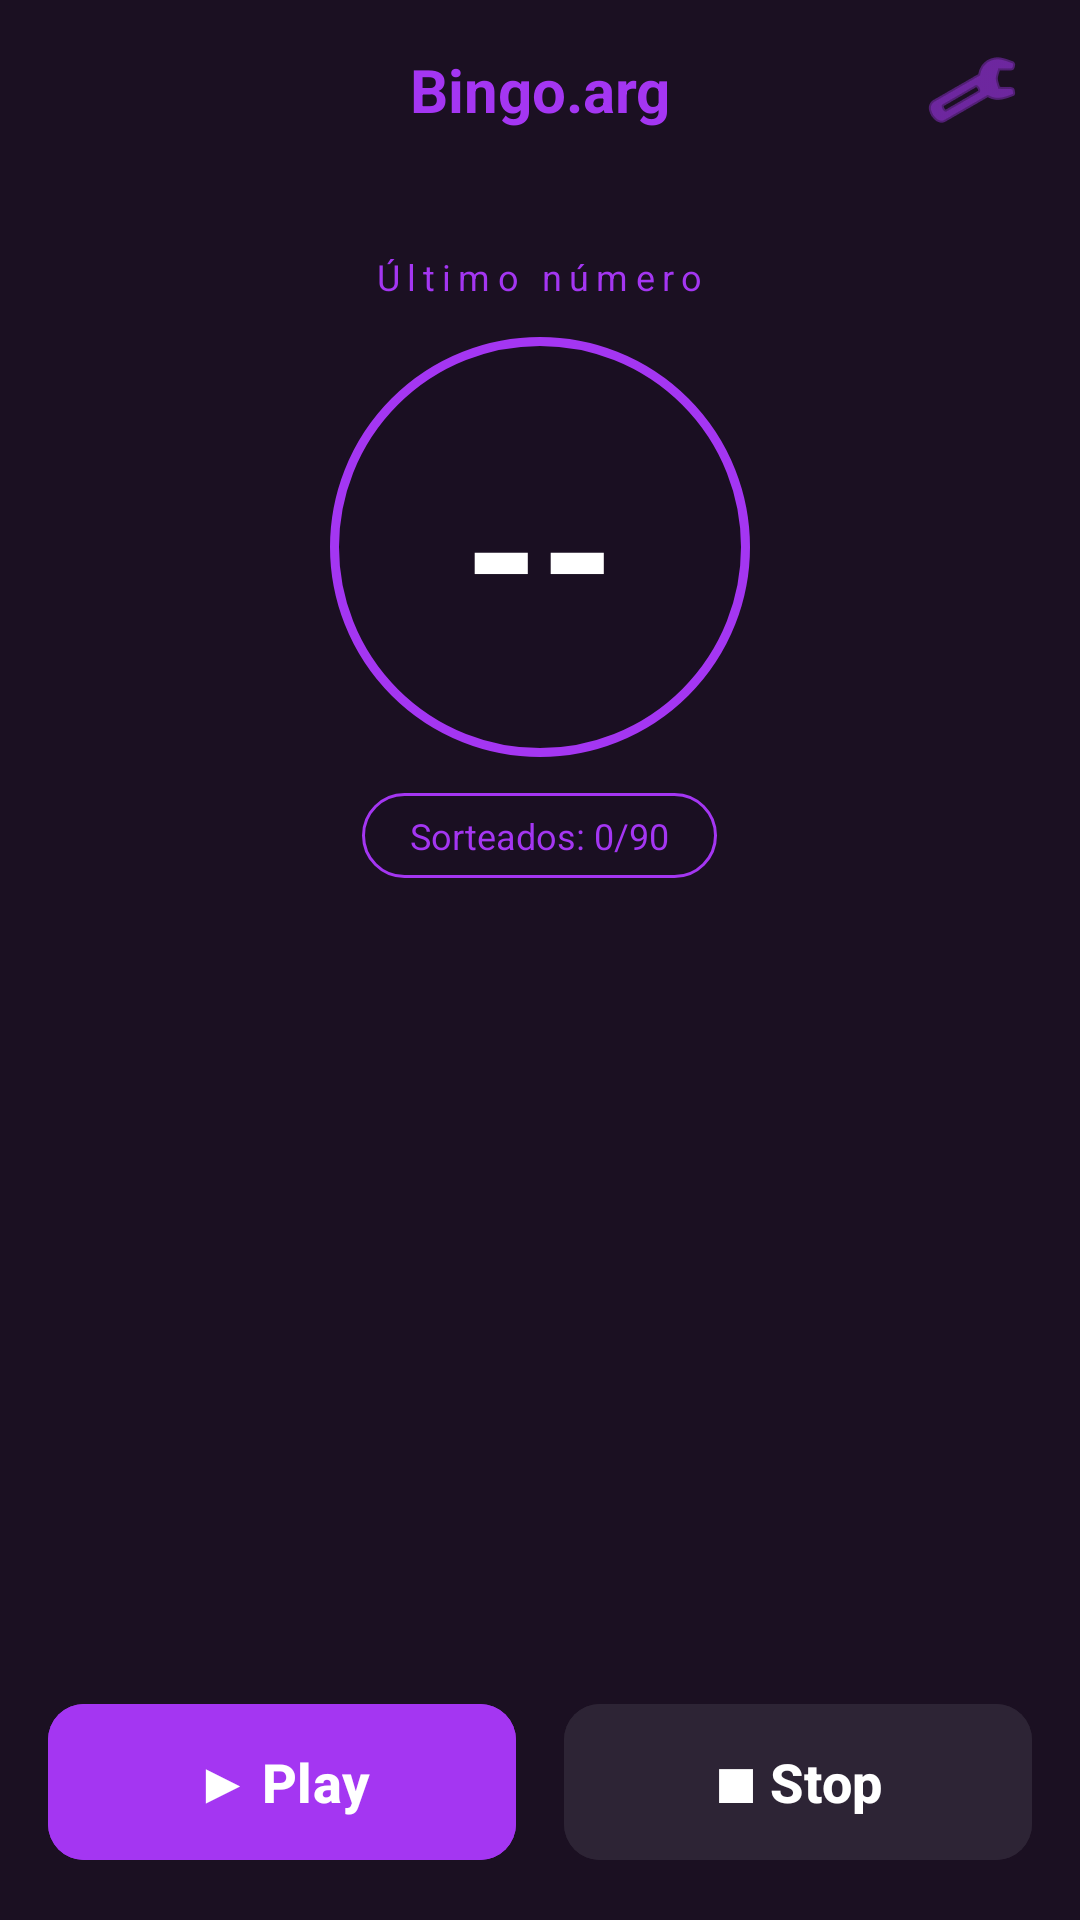

Locate icon controls on the screen. Image size 1080px×1920px, boxes as (x1, y1, x2, y2).
preferences: (929, 57, 1015, 123)
